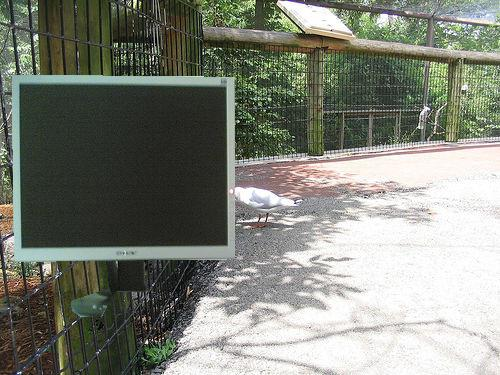tampered: (13, 76, 235, 317)
